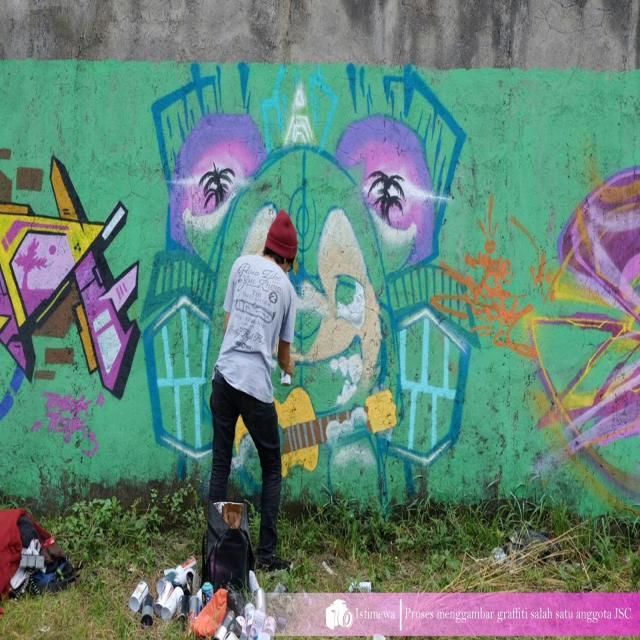-: (142, 61, 476, 497), (0, 146, 139, 457), (527, 166, 640, 502), (431, 196, 561, 359)
